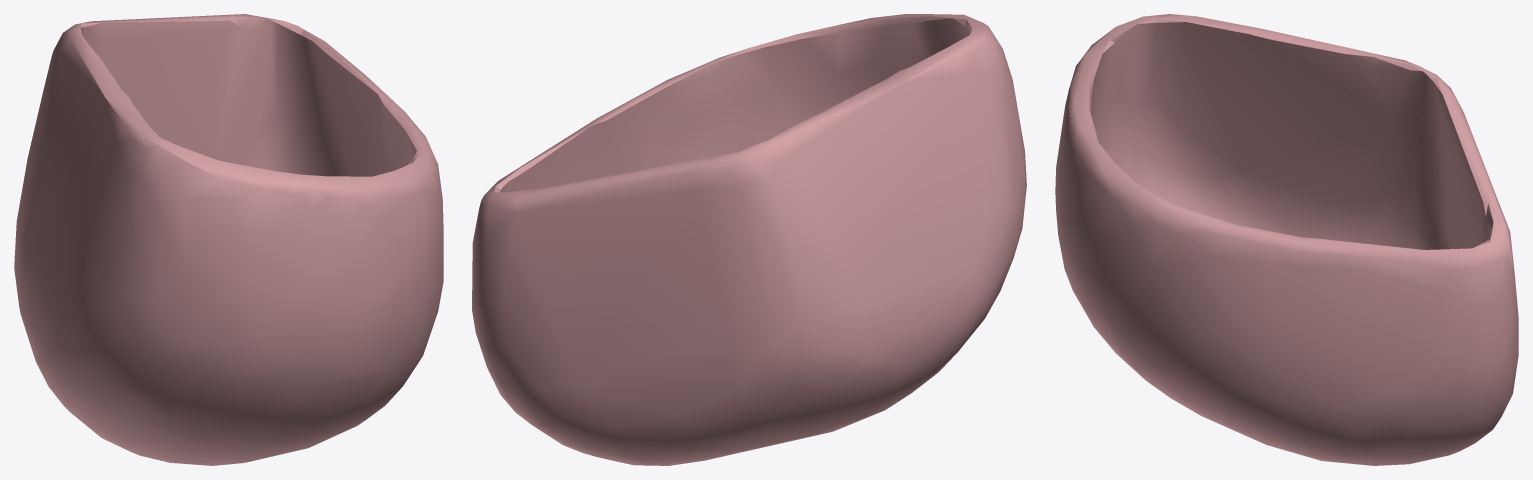
Rendered from fma7247_fj2417.glb.
The picture shows the model from 3 angles, left to right: view 1: azimuth 30°, elevation 25°; view 2: azimuth 150°, elevation 25°; view 3: azimuth 270°, elevation 25°; orthographic projection. The views are drawn at different scales.
Visible parts, largest first — view 1: FMA7247_FJ2417; view 2: FMA7247_FJ2417; view 3: FMA7247_FJ2417.
Boxes of the visible parts, bbox=[...] form: FMA7247_FJ2417: bbox=[14, 14, 443, 465]; FMA7247_FJ2417: bbox=[472, 14, 1026, 465]; FMA7247_FJ2417: bbox=[1055, 14, 1518, 465].
Size of the model in its own units: 0.0178 by 0.0165 by 0.02.
